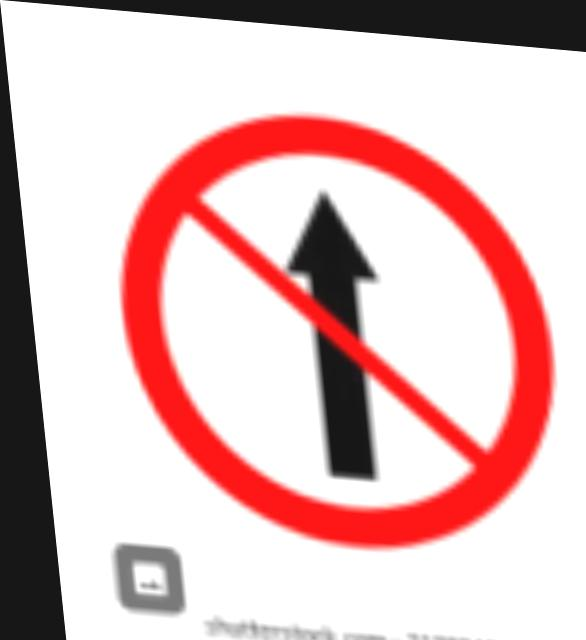not_go_straight: (75, 70, 583, 581)
